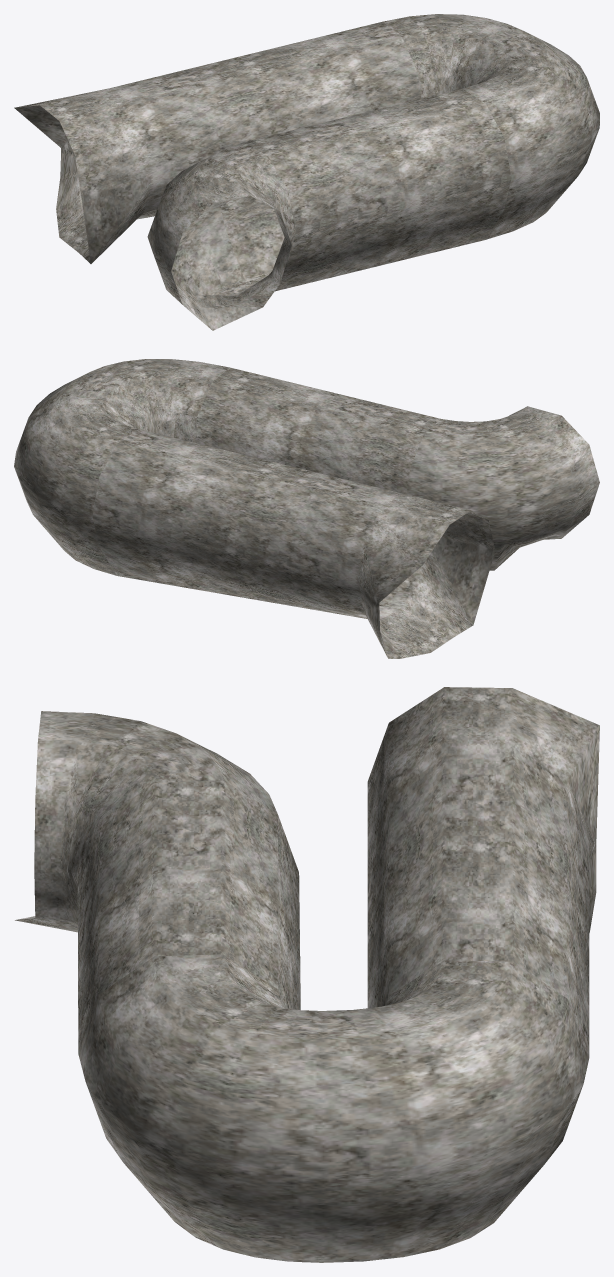
Rendered from DWARF_PALACE_MAINHALL_FORGE_CAVE.fbx.
3 renders of one model, top to bottom at view 1: azimuth 30°, elevation 25°; view 2: azimuth 150°, elevation 25°; view 3: azimuth 270°, elevation 25°, orthographic. The views are drawn at different scales.
Parts seen in each view (by area): view 1: DWARF_PALACE_MAINHALL_FORGE_CAVE; view 2: DWARF_PALACE_MAINHALL_FORGE_CAVE; view 3: DWARF_PALACE_MAINHALL_FORGE_CAVE.
Boxes of the visible parts, x1,y1,x2,y2 form: DWARF_PALACE_MAINHALL_FORGE_CAVE: [14, 14, 599, 330]; DWARF_PALACE_MAINHALL_FORGE_CAVE: [14, 359, 599, 658]; DWARF_PALACE_MAINHALL_FORGE_CAVE: [15, 687, 599, 1262].
Size of the model in its own units: 420459 by 111382 by 264490.
1 material, 1 textured.
